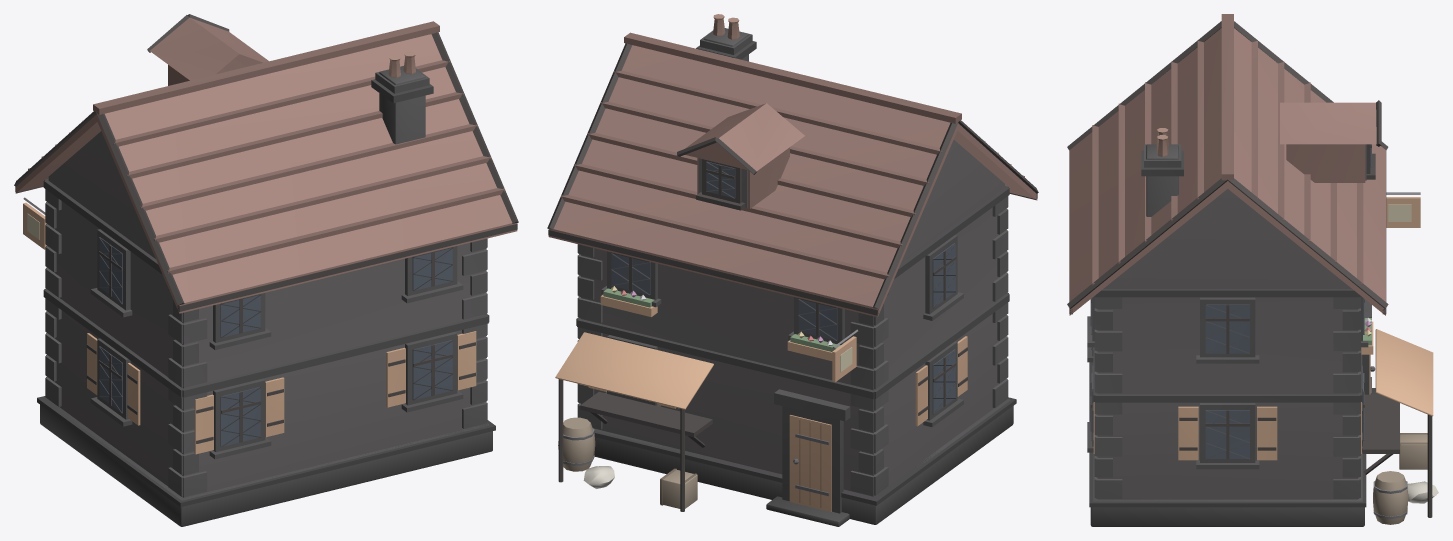
File: shop_cinder.gltf
3 renders of one model, left to right at view 1: azimuth 30°, elevation 25°; view 2: azimuth 150°, elevation 25°; view 3: azimuth 270°, elevation 25°, orthographic. The views are drawn at different scales.
Parts seen in each view (by area): view 1: Body; view 2: Body; view 3: Body.
Part boxes in pixels (x1,y1,x2,y2): Body: [14, 14, 518, 526]; Body: [547, 14, 1038, 526]; Body: [1067, 14, 1438, 526].
Bounding box in the file's own units: 8.17 × 8.76 × 8.
